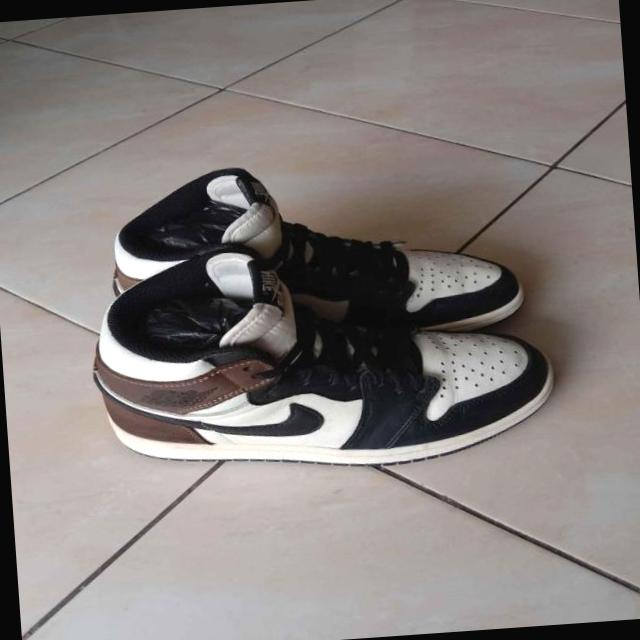nike_fake_jordan: (84, 221, 560, 486), (103, 145, 530, 358)
